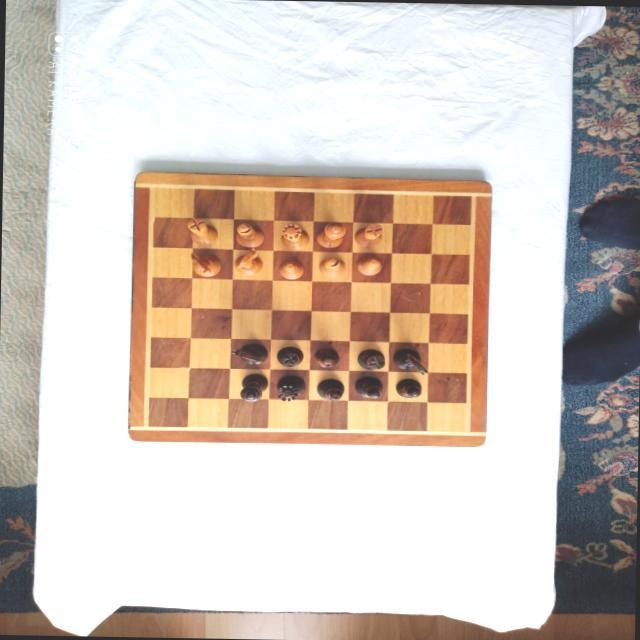black-bishop: (353, 374, 382, 398), (316, 377, 344, 399)
black-king: (240, 372, 268, 400)
black-knight: (392, 346, 427, 374), (232, 341, 268, 365)
black-pawn: (395, 377, 421, 397), (313, 346, 338, 366)
black-queen: (275, 373, 304, 401)
black-rook: (357, 347, 385, 369), (277, 346, 303, 366)
white-bishop: (235, 221, 263, 247), (318, 256, 346, 276)
white-king: (316, 219, 346, 246)
white-knight: (233, 246, 262, 274), (189, 251, 220, 277)
white-pawn: (279, 258, 304, 277), (356, 256, 382, 274)
white-queen: (279, 222, 309, 248)
white-rook: (186, 216, 218, 243), (353, 221, 383, 247)
